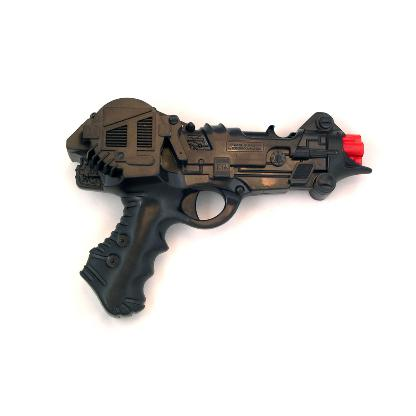gun: (66, 97, 372, 317)
